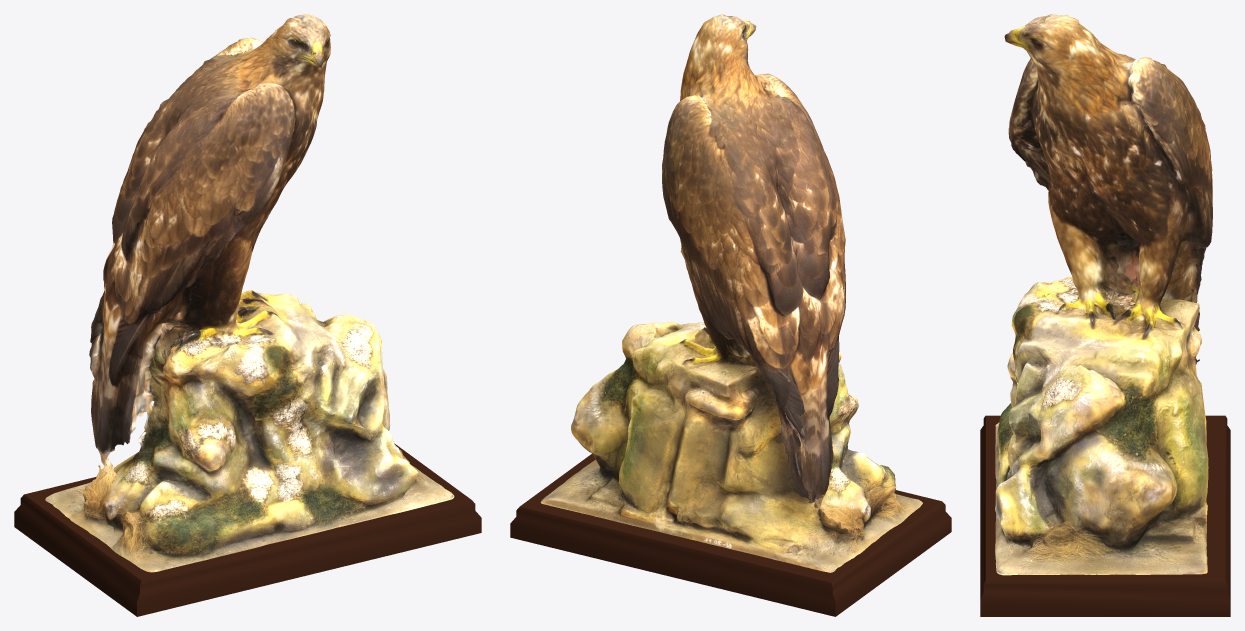
File: pattern-4.glb
3 views of the same model, side by side, from view 1: azimuth 30°, elevation 25°; view 2: azimuth 150°, elevation 25°; view 3: azimuth 270°, elevation 25° (orthographic). The views are drawn at different scales.
Parts seen in each view (by area): view 1: Object_4, Object_2; view 2: Object_4, Object_2; view 3: Object_4, Object_2.
Boxes of the visible parts, <box> form: Object_4: <box>45,14,454,572</box>; Object_2: <box>14,443,481,616</box>; Object_4: <box>540,14,922,572</box>; Object_2: <box>510,454,951,616</box>; Object_4: <box>995,14,1212,575</box>; Object_2: <box>980,415,1230,616</box>.
Size of the model in its own units: 5.99 by 8.68 by 3.7.
3 materials, 2 textured.
